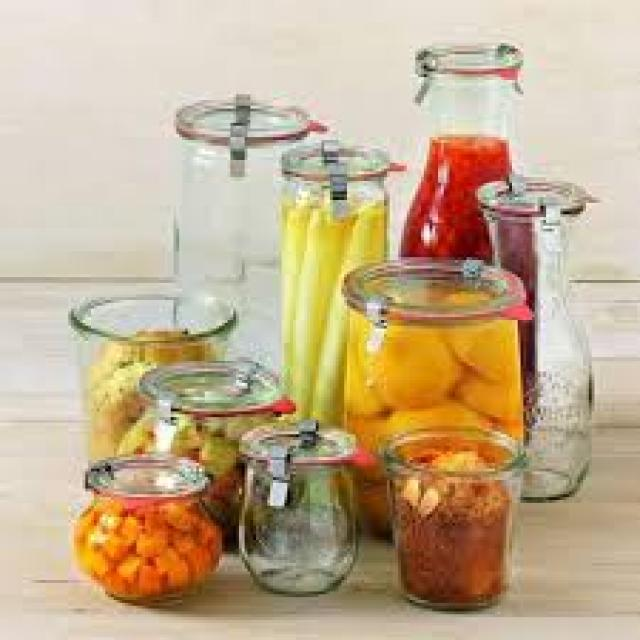organic waste: (410, 131, 529, 263), (319, 203, 384, 426), (293, 206, 350, 414), (120, 420, 230, 497), (404, 508, 501, 592), (432, 291, 512, 380), (381, 397, 489, 454), (282, 197, 316, 372), (370, 329, 455, 397), (344, 314, 390, 429), (452, 366, 515, 426), (341, 406, 387, 483), (137, 329, 199, 360), (356, 480, 392, 523), (142, 543, 179, 577), (131, 523, 171, 554), (429, 443, 478, 466), (97, 337, 145, 360), (108, 374, 137, 412), (120, 560, 160, 586), (444, 488, 501, 506), (82, 557, 120, 583), (182, 517, 216, 543), (185, 543, 210, 574), (134, 506, 176, 523), (160, 500, 197, 517), (88, 383, 108, 414), (108, 512, 134, 534), (97, 506, 125, 523), (108, 551, 139, 566), (410, 488, 435, 506), (94, 423, 111, 448), (80, 523, 100, 543), (404, 474, 418, 500), (96, 532, 116, 548), (168, 532, 185, 537)
